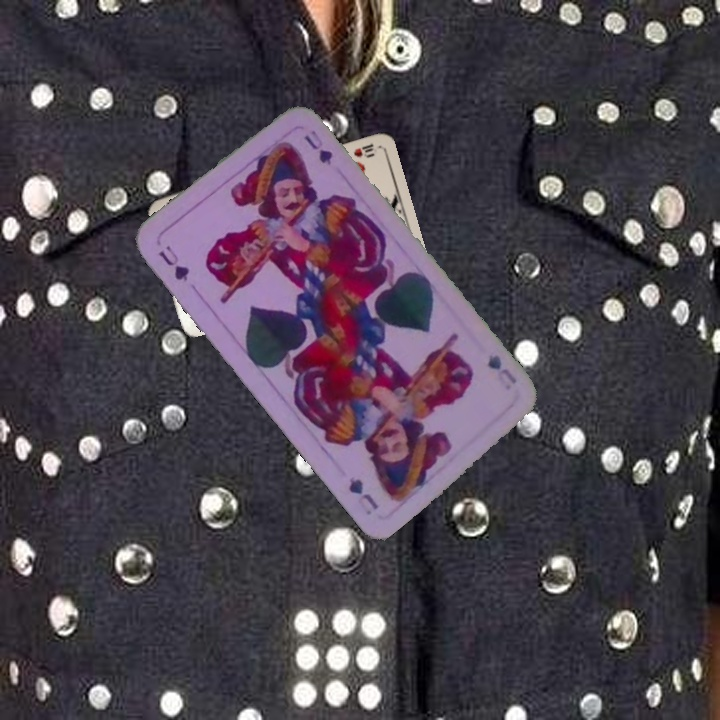GU: (154, 241, 192, 283), (483, 350, 520, 387)
H10: (350, 140, 377, 160)
